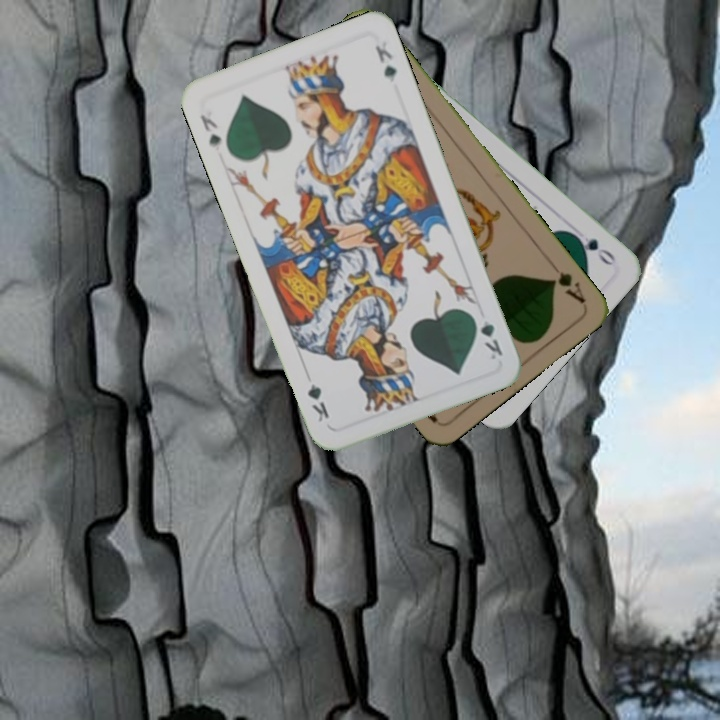GA: (546, 256, 589, 307)
GK: (468, 310, 506, 362), (196, 110, 224, 151)
GO: (567, 229, 620, 269)
